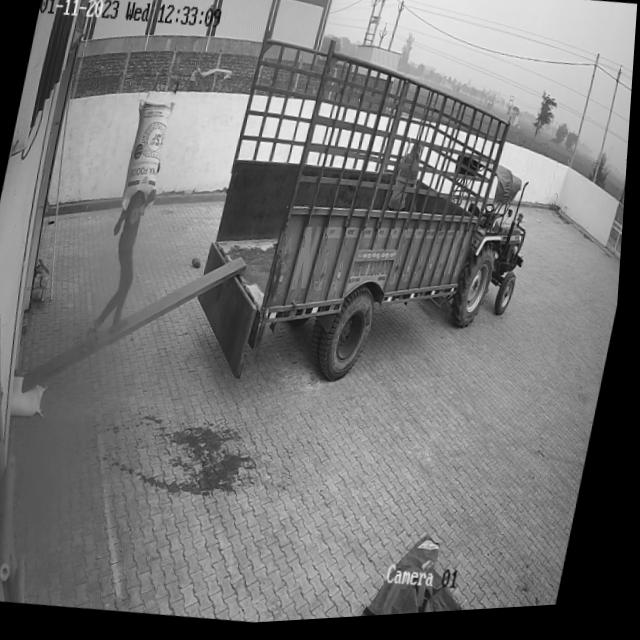sack: (121, 101, 175, 218), (11, 374, 53, 420)
